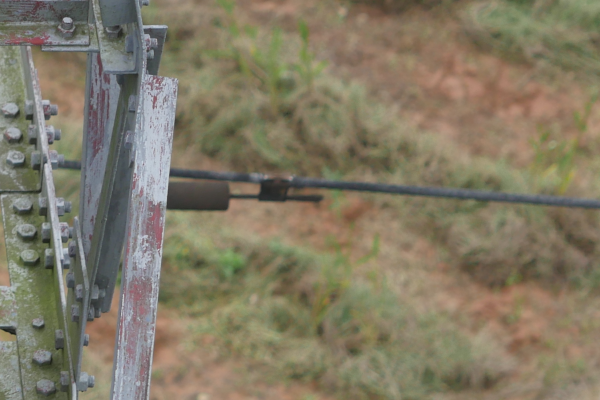damper_defect: (165, 165, 325, 212)
